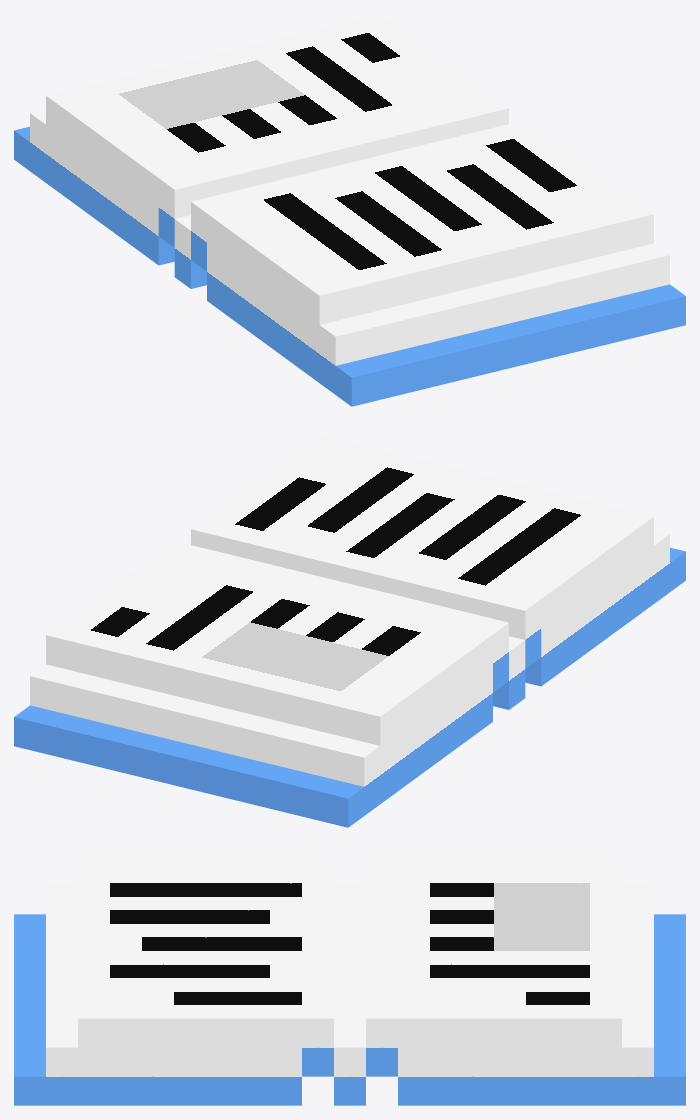
Rendered from 打开的书本.gltf.
The picture shows the model from 3 angles, top to bottom: view 1: azimuth 30°, elevation 25°; view 2: azimuth 150°, elevation 25°; view 3: azimuth 270°, elevation 25°; orthographic projection.
Visible parts, largest first — view 1: Object; view 2: Object; view 3: Object.
Part boxes in pixels (left/top/right/bottom): Object: left=14, top=14, right=685, bottom=406; Object: left=14, top=435, right=685, bottom=827; Object: left=14, top=856, right=685, bottom=1105.
Size of the model in its own units: 12 by 3 by 21.
Materials: 1 (1 with a texture image).
